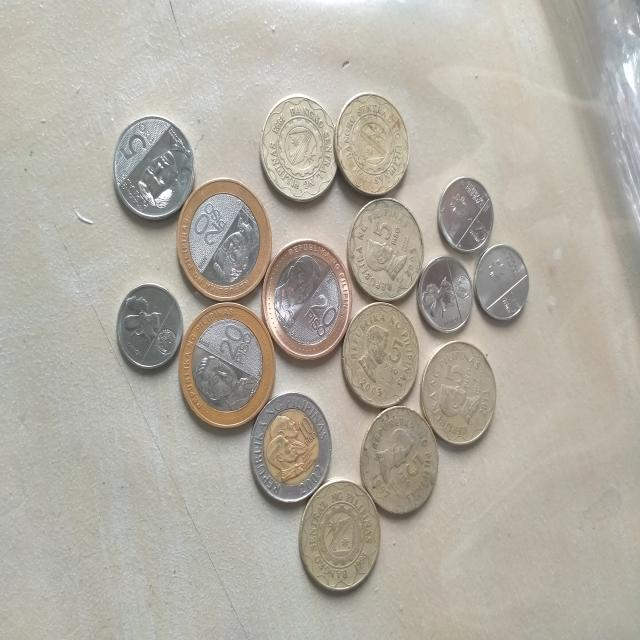10_Old_Front: (253, 392, 324, 498)
5_New_Front: (115, 113, 189, 212)
5_Old_Front: (353, 315, 411, 394), (360, 212, 413, 288)
